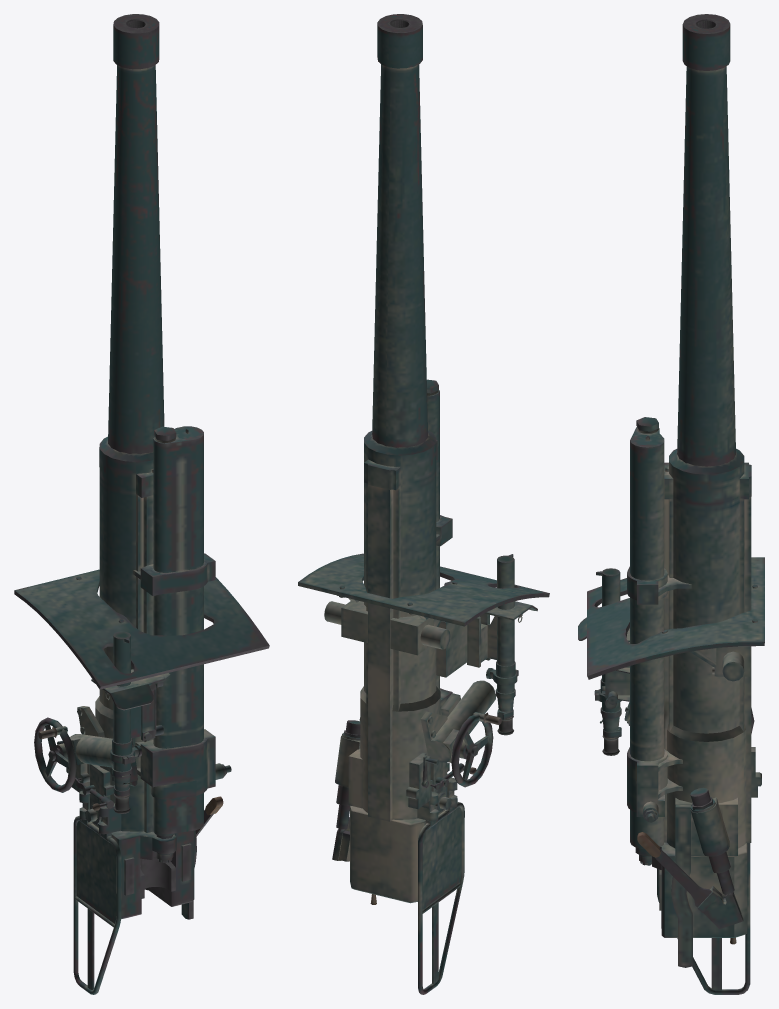
Rendered from Gun_03.glb.
3 views of the same model, side by side, from view 1: azimuth 30°, elevation 25°; view 2: azimuth 150°, elevation 25°; view 3: azimuth 270°, elevation 25° (orthographic). The views are drawn at different scales.
Parts seen in each view (by area): view 1: set_0_group_0; view 2: set_0_group_0; view 3: set_0_group_0.
Part boxes in pixels (<box>): set_0_group_0: <box>14,14,269,994</box>; set_0_group_0: <box>298,14,549,994</box>; set_0_group_0: <box>578,14,764,994</box>.
Bounding box in the file's own units: 0.5151 × 2.72 × 0.4651.
1 material, 1 textured.
